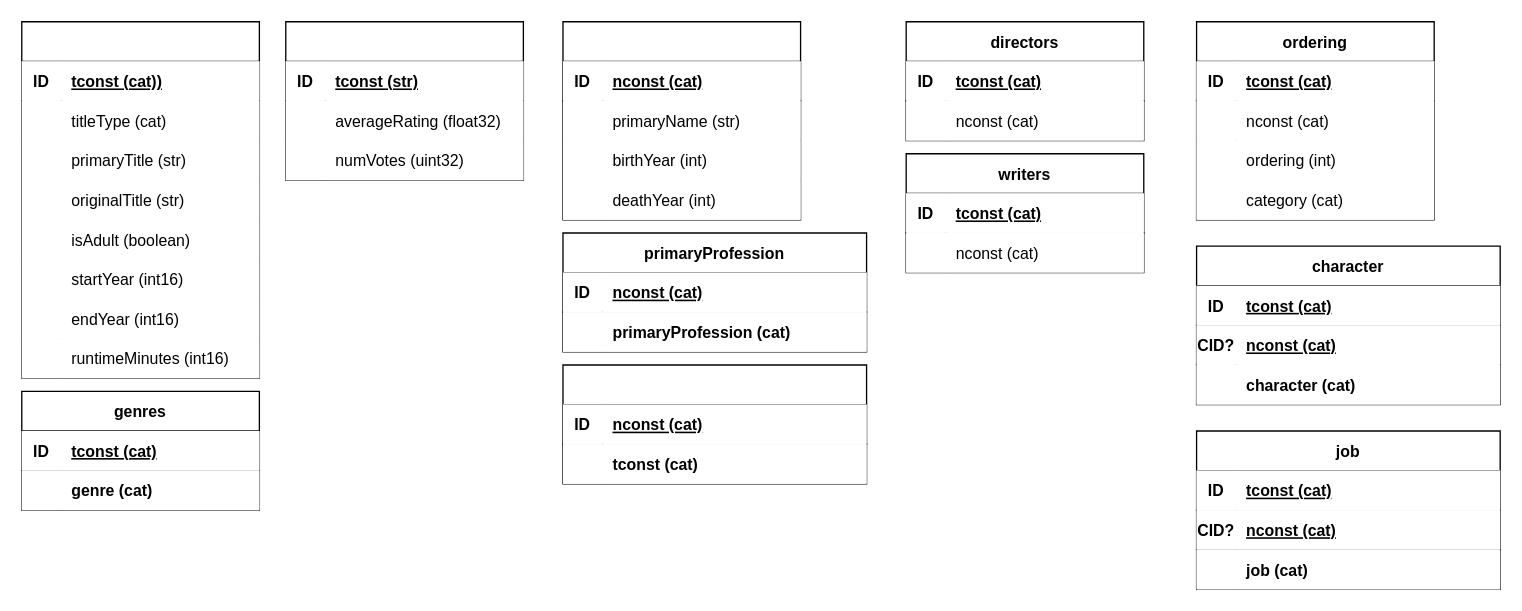
This 1522x611 diagram has some shape labels left out. Each missing label, with the box of its shape:
knownForTitles: (562, 364, 867, 484)
nameBasics: (562, 20, 801, 220)
title.rate: (284, 20, 523, 180)
TitleBasics: (20, 20, 259, 378)
